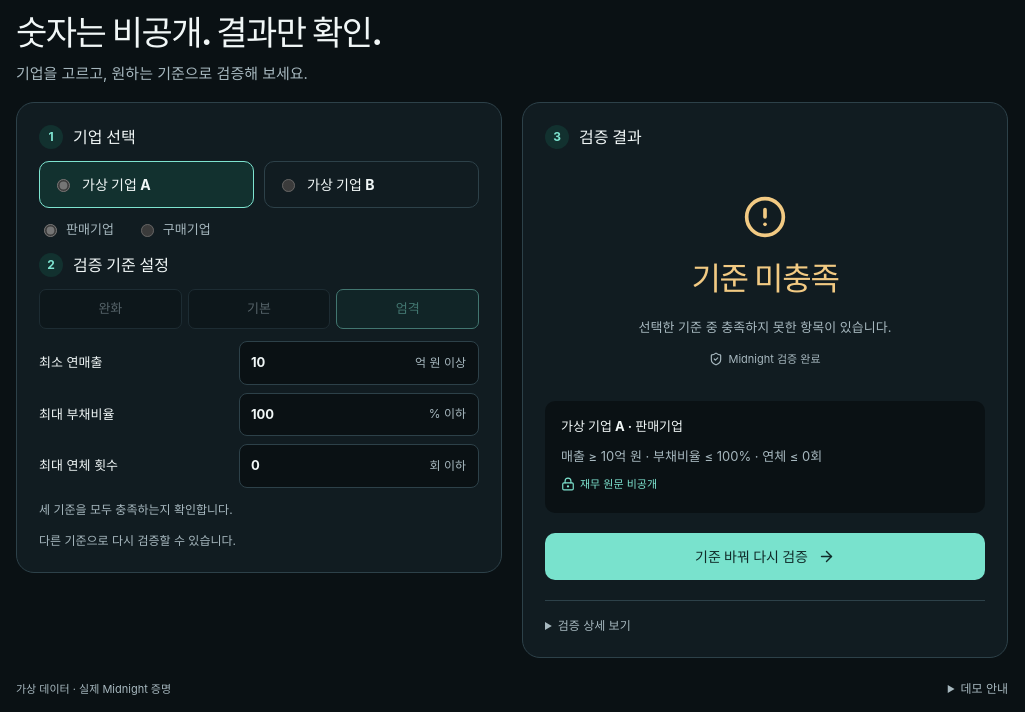
Scenario: hydrates custom recovered criteria and requires new consent to retry another policy
This screenshot has width=1025, height=712.
Expected: the field with id "revenue" holds "10", [240,342,415,384]
What coordinates should you click on to do the following:
click the button "기준 바꿔 다시 검증"
I would click on:
 (765, 556)
Its box is [545,533,985,580].
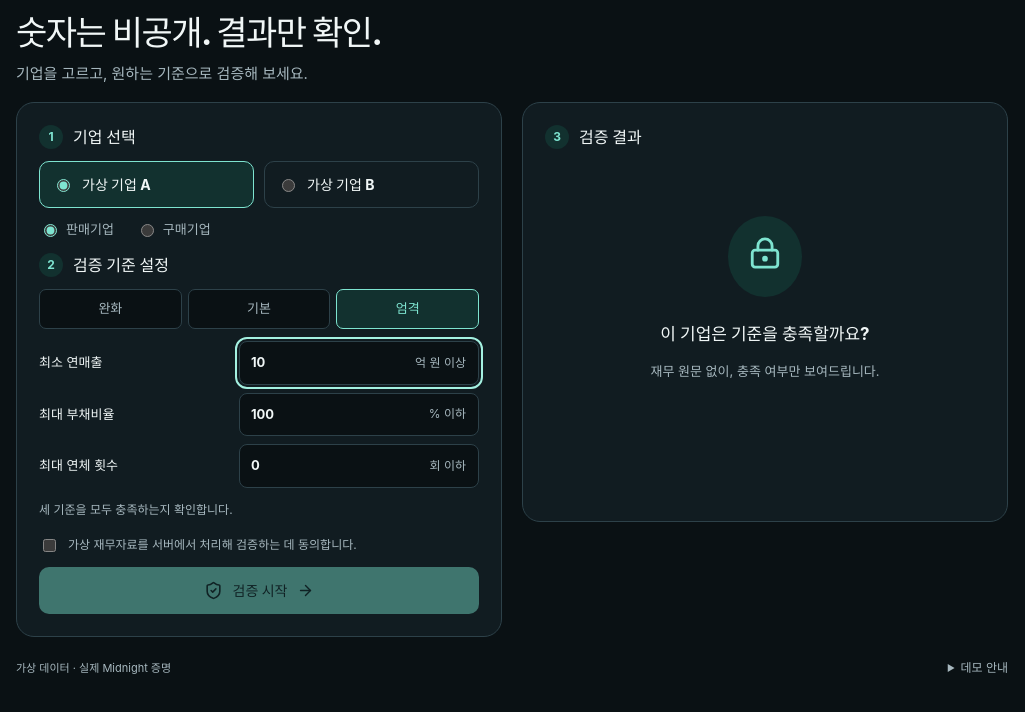
What coordinates should you click on to do the following:
click the button "완화"
I would click on:
 (110, 309)
Its box is [39,289,182,329].
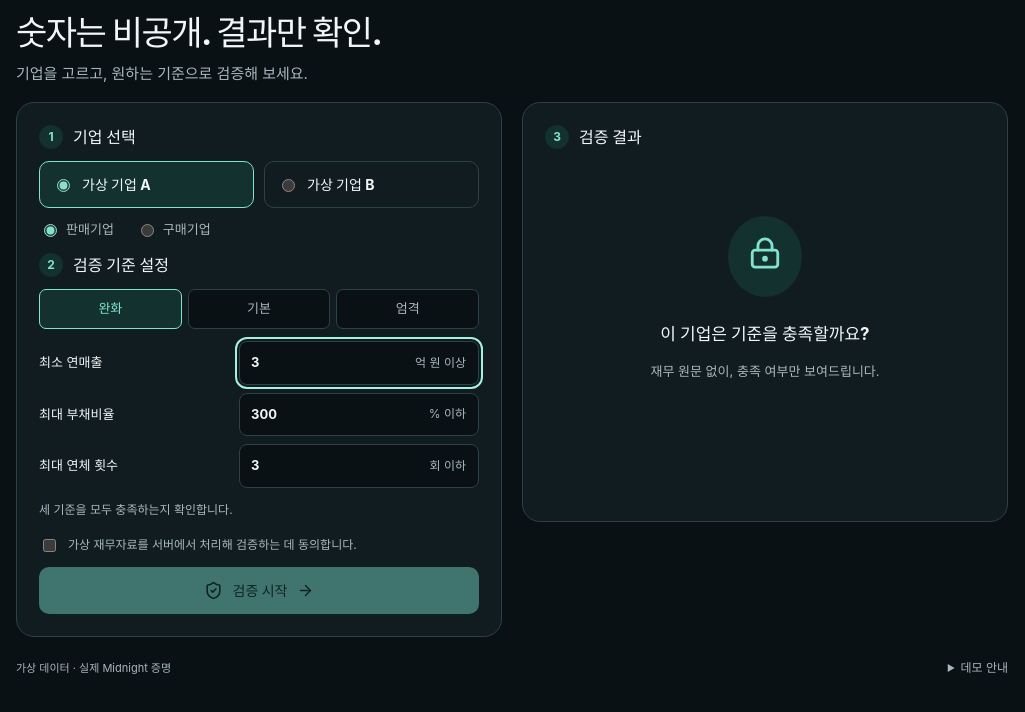
Result: the checkbox labelled "가상 재무자료를 서버에서 처리해 검증하는 데 동의합니다." is not checked at [43,539,56,552]
Result: the button "검증 시작" is disabled at [39,567,479,614]
Result: the field with id "revenue" holds "3" at [240,342,415,384]
